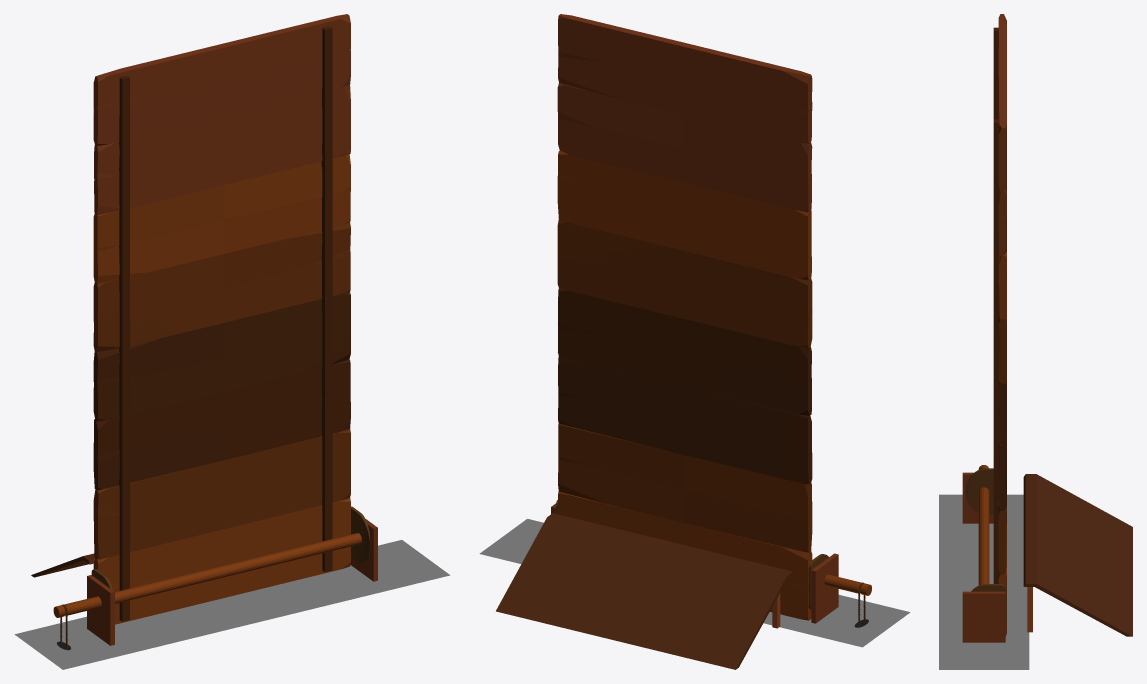
Rendered from FBX_INT_RUIN_ZugrbrückeAnimation.fbx.
3 views of the same model, side by side, from view 1: azimuth 30°, elevation 25°; view 2: azimuth 150°, elevation 25°; view 3: azimuth 270°, elevation 25° (orthographic). The views are drawn at different scales.
Visible parts, largest first — view 1: Cube.026, Plane.002, Cube.029, Cube.028; view 2: Cube.026, Cube.031, Plane.002, Cube.029; view 3: Cube.031, Plane.002, Cube.026, Cube.028, Cube.029.
Part boxes in pixels (<box>): Cube.026: <box>53,14,370,624</box>; Plane.002: <box>14,540,450,669</box>; Cube.029: <box>87,575,114,645</box>; Cube.028: <box>350,519,377,581</box>; Cube.026: <box>555,14,871,620</box>; Cube.031: <box>496,513,793,669</box>; Plane.002: <box>479,519,910,647</box>; Cube.029: <box>811,553,838,623</box>; Cube.031: <box>1023,474,1132,636</box>; Plane.002: <box>939,494,1029,669</box>; Cube.026: <box>965,14,1006,636</box>; Cube.028: <box>962,591,1005,642</box>; Cube.029: <box>962,472,993,523</box>.
Size of the model in its own units: 230 by 315 by 107.
